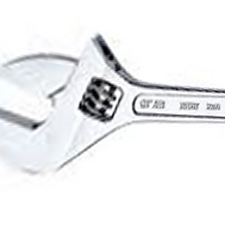wrench: (1, 23, 225, 172)
